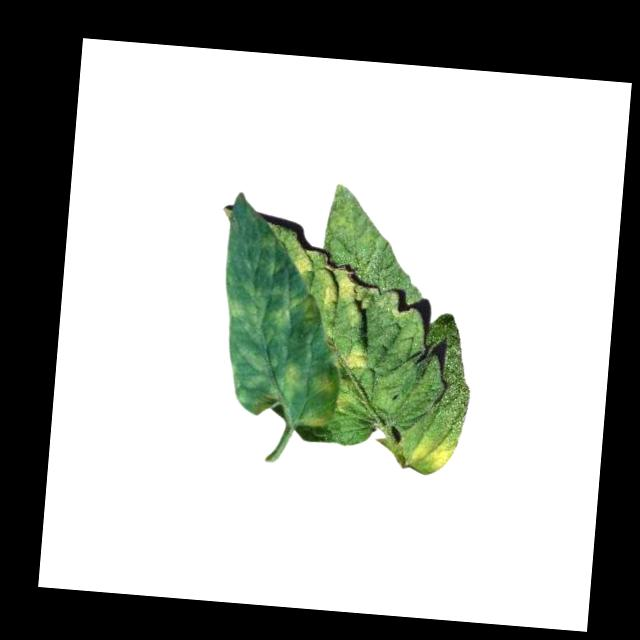Leaf_Mold: (225, 277, 320, 334), (228, 343, 271, 416), (322, 268, 369, 324), (410, 431, 457, 473), (277, 359, 309, 404), (341, 337, 378, 374), (307, 412, 335, 435), (294, 251, 316, 278), (316, 371, 338, 398)
